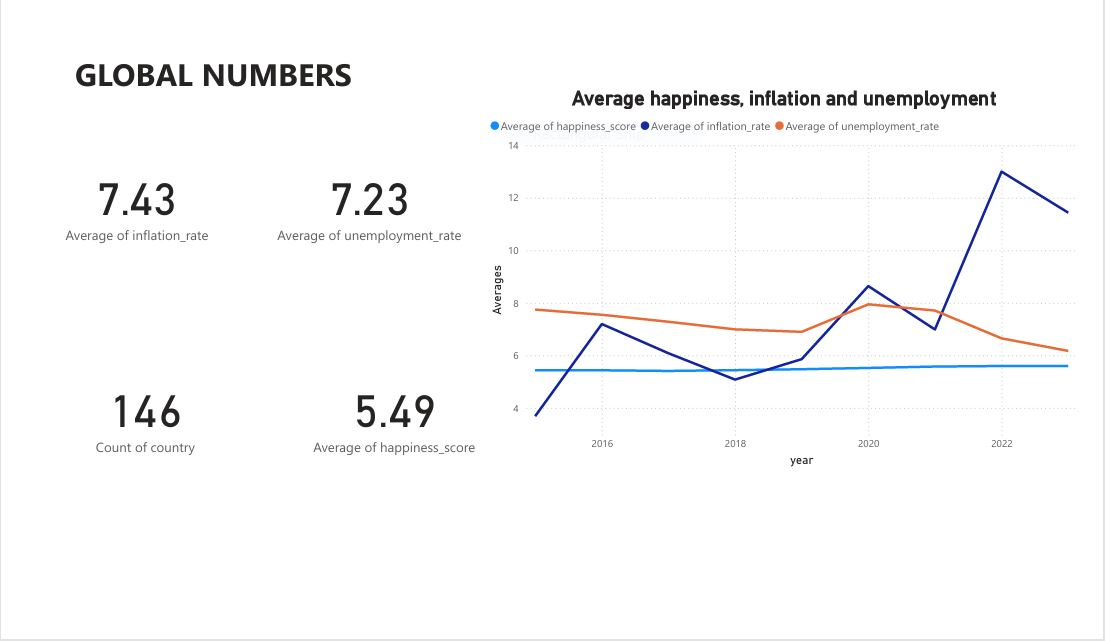

The dashboard page shown, as its layout file describes it:
{"tool":"powerbi","page":{"name":"Global numbers","canvas":[1280,720],"ordinal":0},"visuals":[{"type":"card","fields":{"Values":["Avg(happiness inflation unemployment.happiness_score)"]},"box":[310.1,334.8,279.9,279.9],"z":0},{"type":"card","fields":{"Values":["Avg(happiness inflation unemployment.unemployment_rate)"]},"box":[279.9,79.6,279.9,279.9],"z":1000},{"type":"card","fields":{"Values":["Avg(happiness inflation unemployment.inflation_rate)"]},"box":[0,79.6,279.9,279.9],"z":2000},{"type":"textbox","box":[60.4,34.3,499.5,90.6],"z":3000},{"type":"card","fields":{"Values":["Count(happiness inflation unemployment.country)"]},"box":[9.6,334.8,279.9,279.9],"z":4000},{"type":"lineChart","title":"Average happiness, inflation and unemployment","fields":{"Y":["Avg(happiness inflation unemployment.happiness_score)","Avg(happiness inflation unemployment.inflation_rate)","Avg(happiness inflation unemployment.unemployment_rate)"],"Category":["happiness inflation unemployment.year"]},"box":[559.9,79.6,720.4,462.4],"z":5000}]}

Visuals, with their boxes on the page's 1280x720 design canvas (x1, y1, x2, y2). These are canvas units, not pixel positions in the 1105x641 screenshot, which may show the page scaled, cropped or inside an application window:
card - Avg(happiness inflation unemployment.happiness_score): (left=310, top=335, right=590, bottom=615)
card - Avg(happiness inflation unemployment.unemployment_rate): (left=280, top=80, right=560, bottom=360)
card - Avg(happiness inflation unemployment.inflation_rate): (left=0, top=80, right=280, bottom=360)
textbox: (left=60, top=34, right=560, bottom=125)
card - Count(happiness inflation unemployment.country): (left=10, top=335, right=290, bottom=615)
"Average happiness, inflation and unemployment" lineChart: (left=560, top=80, right=1280, bottom=542)
